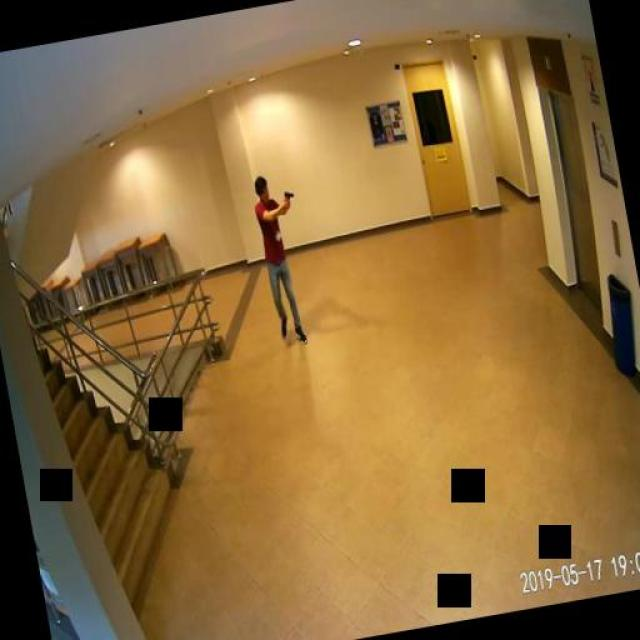gun: (281, 189, 294, 205)
